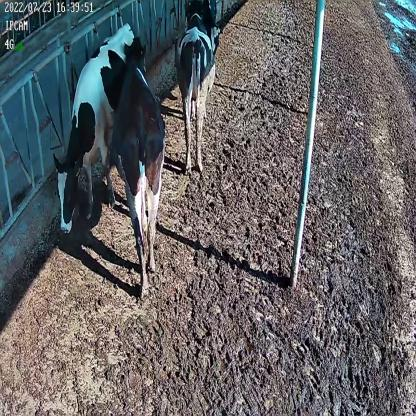cow: (51, 21, 136, 236), (111, 38, 167, 300), (176, 1, 214, 175)
